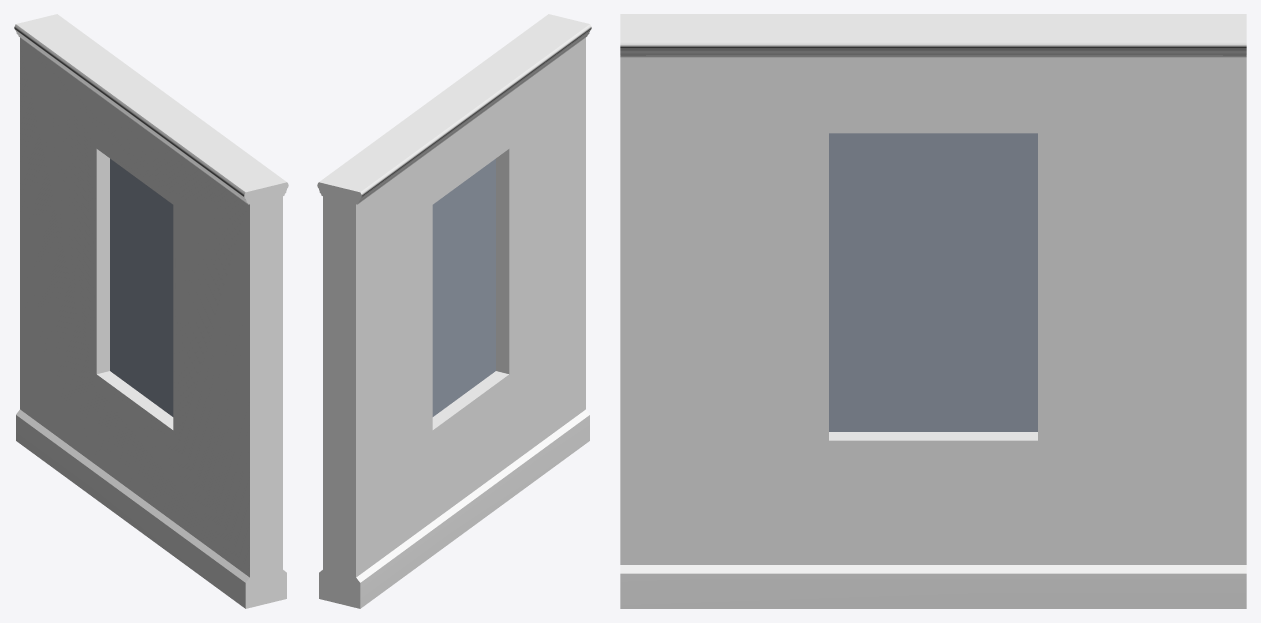
Rendered from Neo_WallWindow_01.fbx.
3 views of the same model, side by side, from view 1: azimuth 30°, elevation 25°; view 2: azimuth 150°, elevation 25°; view 3: azimuth 270°, elevation 25° (orthographic). The views are drawn at different scales.
Parts seen in each view (by area): view 1: Neo_WallWindow_01_LOD00, Neo_WallWindow_01_Glass_01_LOD00; view 2: Neo_WallWindow_01_LOD00, Neo_WallWindow_01_Glass_01_LOD00; view 3: Neo_WallWindow_01_LOD00, Neo_WallWindow_01_Glass_01_LOD00.
Boxes of the visible parts, bbox=[...] form: Neo_WallWindow_01_LOD00: bbox=[14, 14, 288, 608]; Neo_WallWindow_01_Glass_01_LOD00: bbox=[110, 158, 173, 416]; Neo_WallWindow_01_LOD00: bbox=[317, 14, 591, 608]; Neo_WallWindow_01_Glass_01_LOD00: bbox=[432, 158, 495, 416]; Neo_WallWindow_01_LOD00: bbox=[620, 14, 1246, 608]; Neo_WallWindow_01_Glass_01_LOD00: bbox=[829, 133, 1037, 431].
Size of what is drawn, in the model's own units: 33.6 by 300 by 300.
